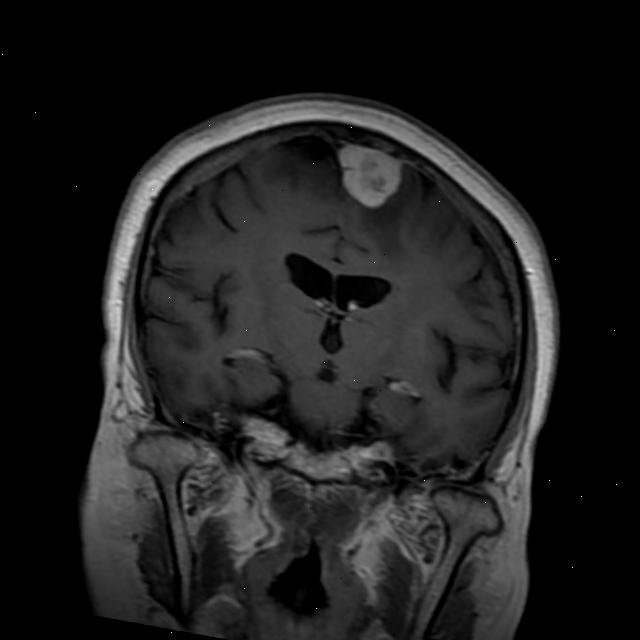Meningioma: (329, 138, 411, 215)
Pituitary: (282, 439, 356, 490)
